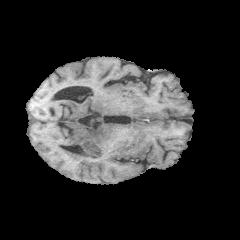glioma: (57, 124, 126, 160)
